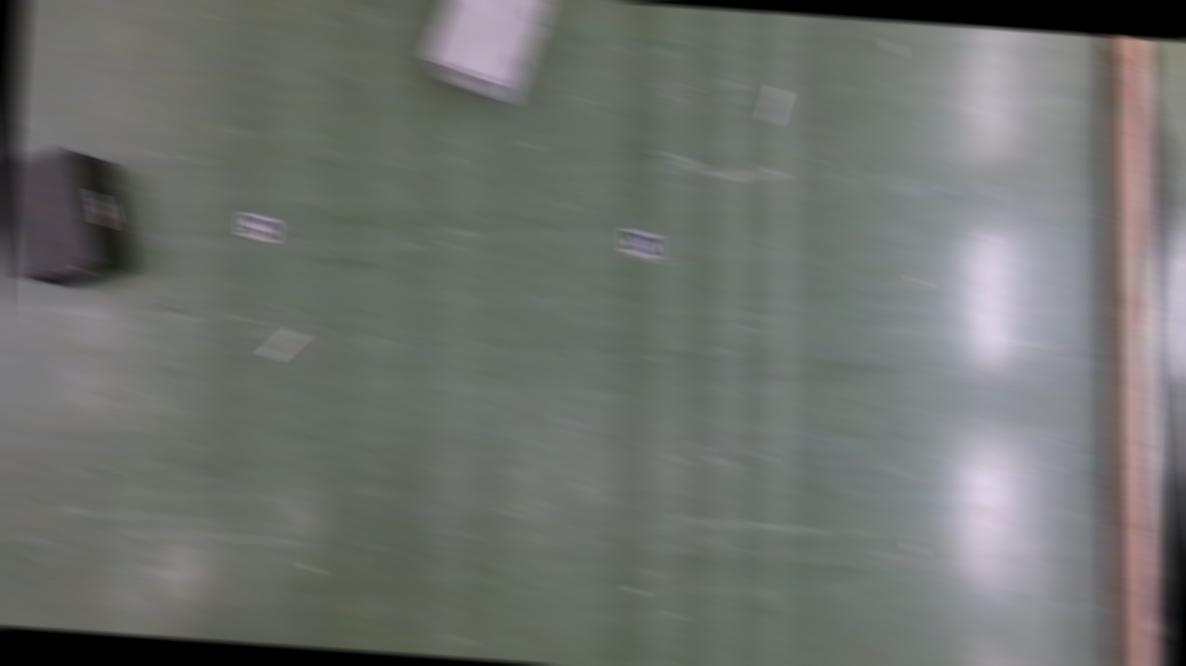probes: (262, 325, 304, 361), (761, 84, 786, 126)
rako: (0, 140, 146, 293), (415, 0, 550, 106)
